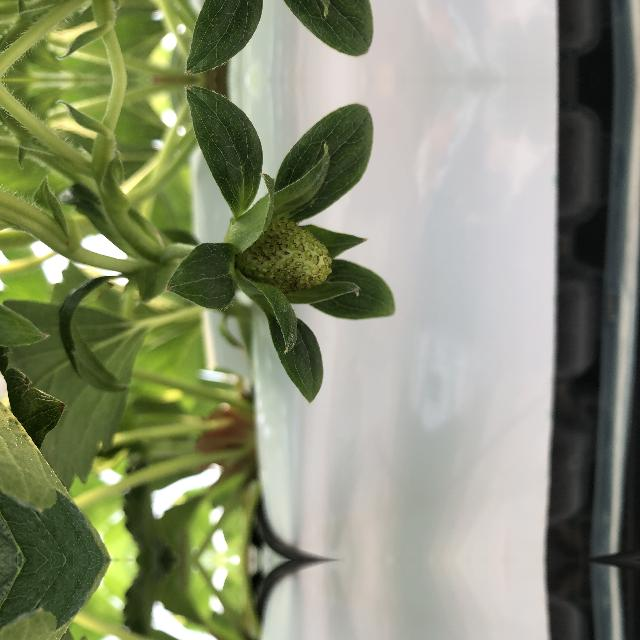Health_25: (238, 222, 334, 290)
